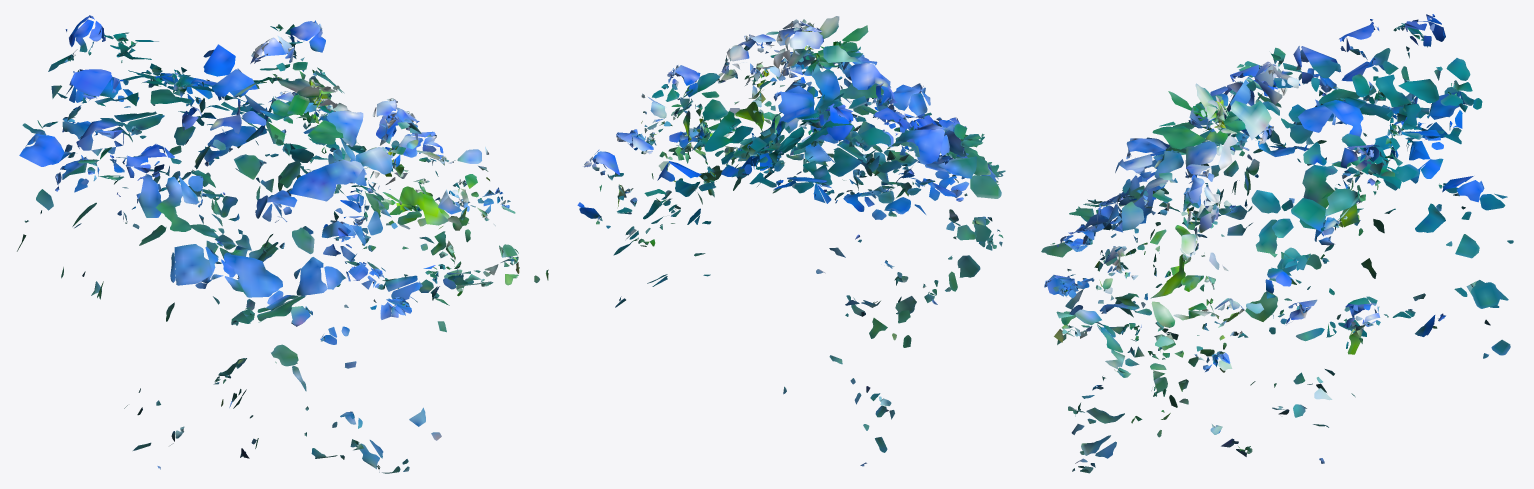
File: hydrangea.obj
The picture shows the model from 3 angles, left to right: view 1: azimuth 30°, elevation 25°; view 2: azimuth 150°, elevation 25°; view 3: azimuth 270°, elevation 25°; orthographic projection. The views are drawn at different scales.
Size of the model in its own units: 5.6 by 5.43 by 5.2.
Materials: 1 (1 with a texture image).
